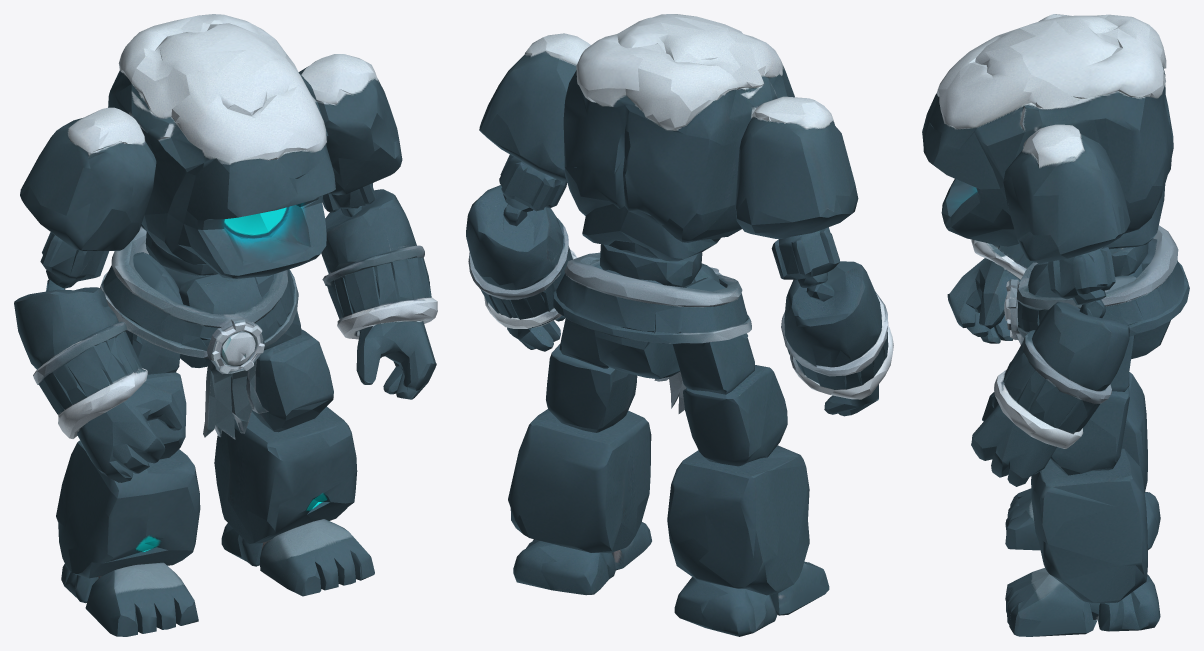
The model's file is golem.glb.
The picture shows the model from 3 angles, left to right: view 1: azimuth 30°, elevation 25°; view 2: azimuth 150°, elevation 25°; view 3: azimuth 270°, elevation 25°; orthographic projection.
Size of the model in its own units: 1.43 by 1.9 by 0.8455.
1 material, 1 textured.
